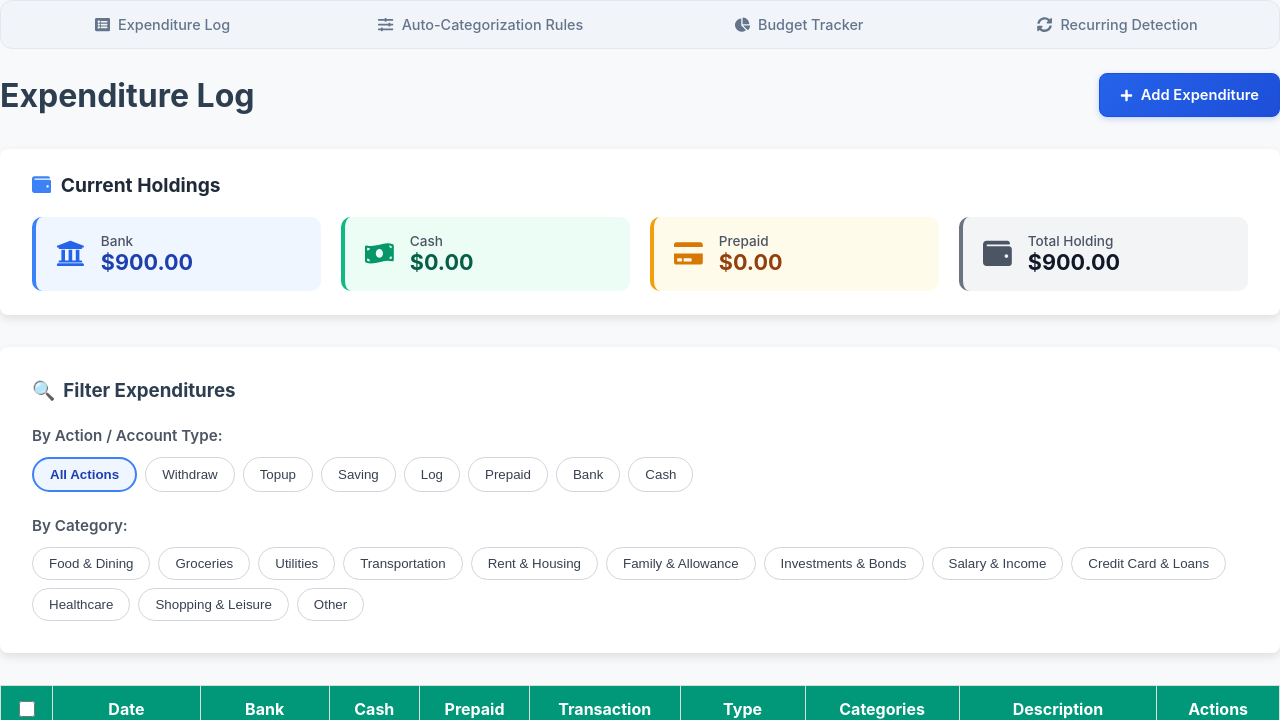
Test: ExpenditureLogPage Bulk Actions [GAP-008] › 3. selects all rows via header checkbox and updates count badge
Step 1. Click the checkbox named "select all expenditures on this page" → {"x": 27, "y": 709}, box left=19, top=701, right=35, bottom=717
(page scrolled)
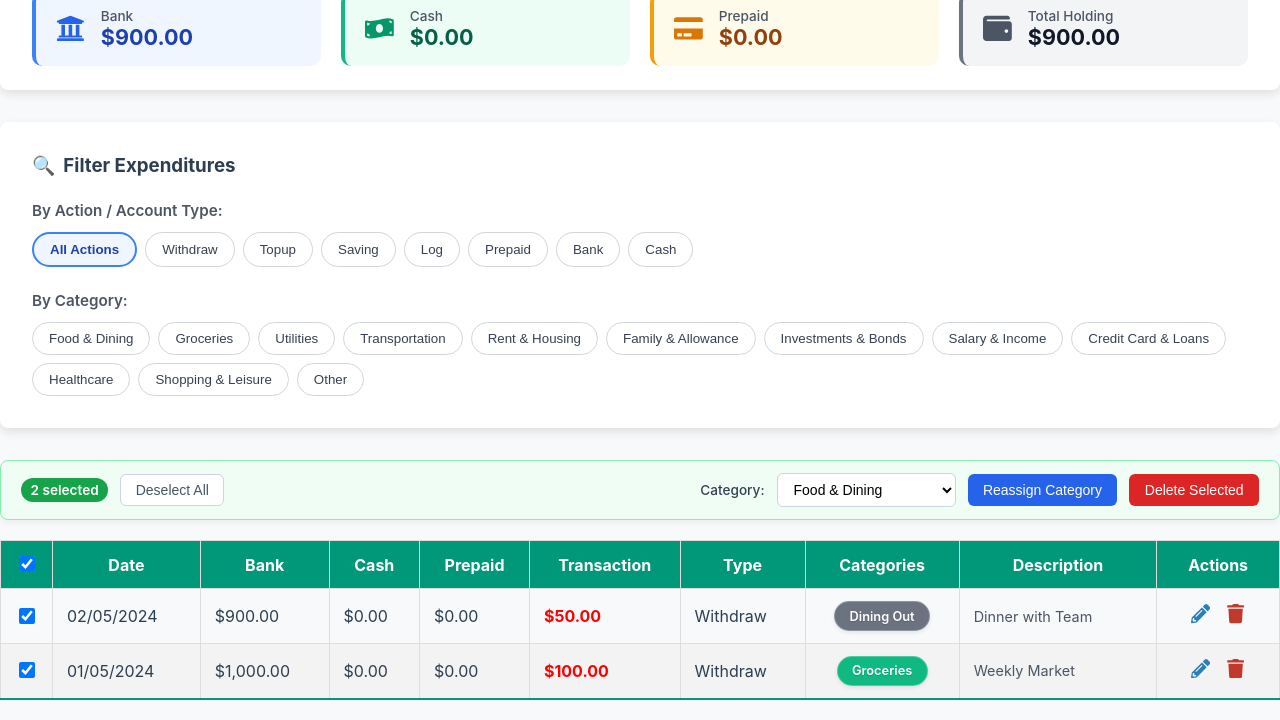
Expected: the checkbox named "select transaction" is checked, left=19, top=608, right=35, bottom=624
Expected: the text "2 selected" is shown, left=21, top=478, right=108, bottom=502
